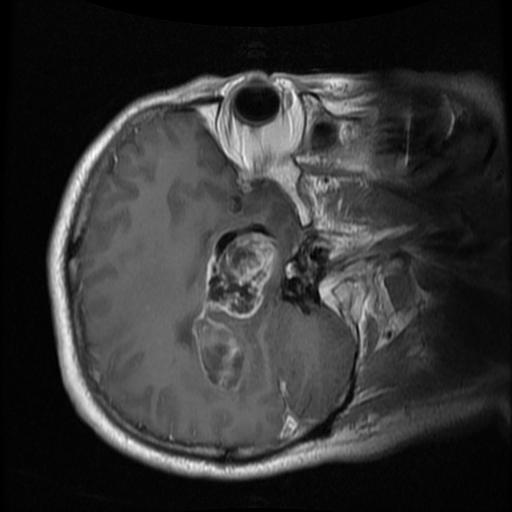glioma: (191, 222, 278, 394)
